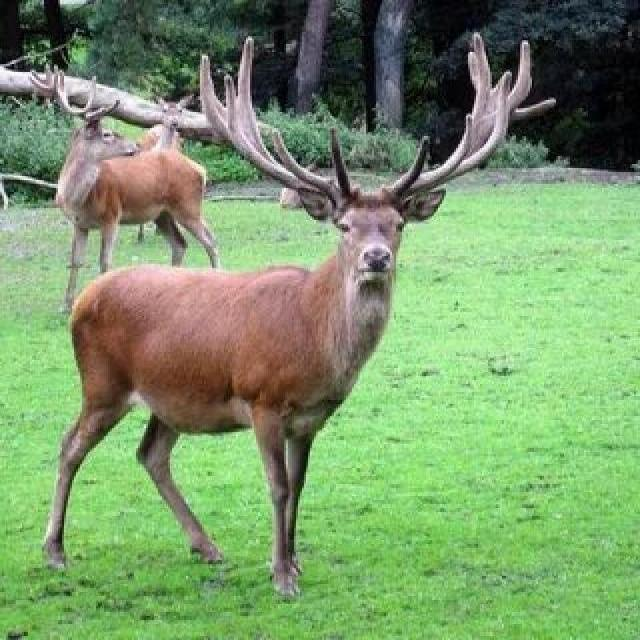deer: (50, 108, 484, 529), (14, 30, 260, 318), (112, 74, 198, 162)
